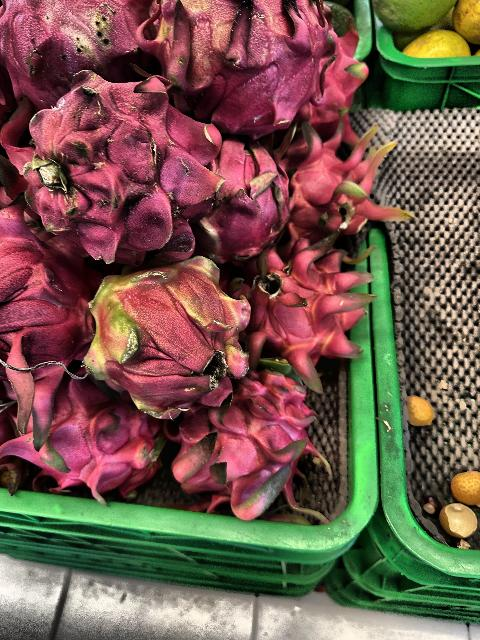buah-naga-belum-matang: (79, 266, 255, 410), (141, 0, 325, 126)
buah-naga-matang: (0, 77, 204, 246), (160, 360, 326, 516), (1, 191, 92, 433), (0, 370, 156, 500), (230, 240, 368, 368), (272, 119, 404, 235), (0, 0, 156, 98), (196, 136, 290, 254)
